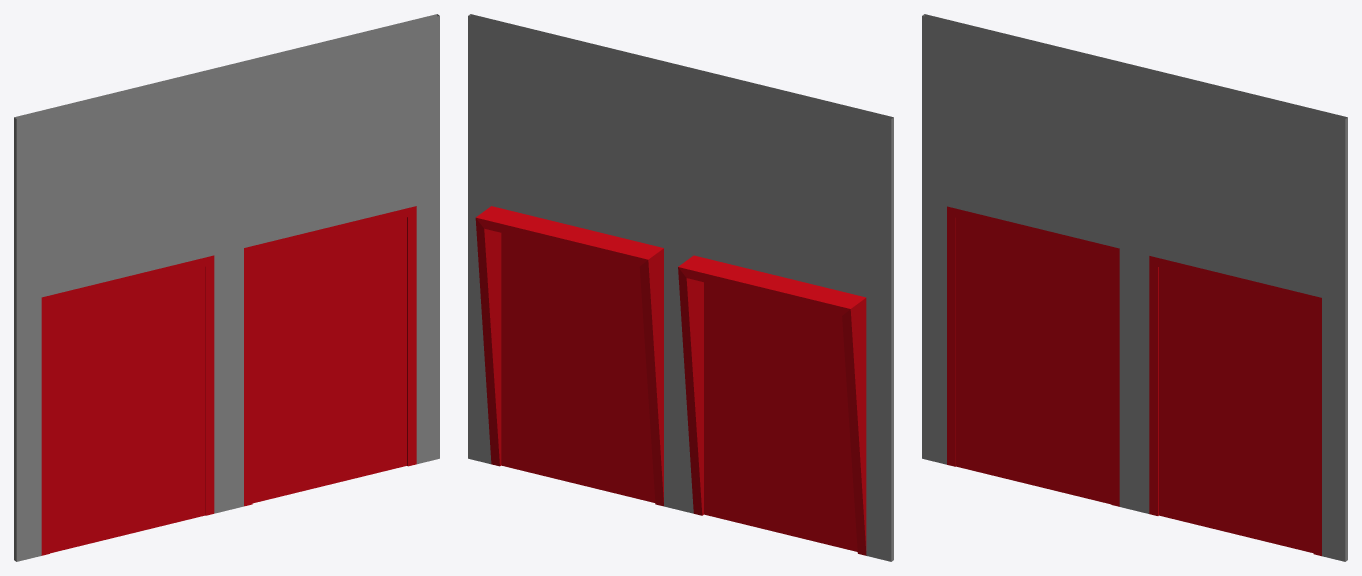
Rendered from WH_Wall_02_Gates_SM.FBX.
The picture shows the model from 3 angles, left to right: view 1: azimuth 30°, elevation 25°; view 2: azimuth 150°, elevation 25°; view 3: azimuth 330°, elevation 25°; orthographic projection.
Visible parts, largest first — view 1: WH_Wall_02_Gates_SM, Gate_SM_01, Gate_SM_02; view 2: WH_Wall_02_Gates_SM, Gate_SM_02, Gate_SM_01; view 3: WH_Wall_02_Gates_SM, Gate_SM_01, Gate_SM_02.
Boxes of the visible parts, left/top/right/bottom form: WH_Wall_02_Gates_SM: left=14, top=14, right=439, bottom=561; Gate_SM_01: left=50, top=266, right=205, bottom=553; Gate_SM_02: left=252, top=217, right=406, bottom=503; WH_Wall_02_Gates_SM: left=468, top=14, right=893, bottom=561; Gate_SM_02: left=501, top=233, right=655, bottom=502; Gate_SM_01: left=704, top=282, right=857, bottom=551; WH_Wall_02_Gates_SM: left=922, top=14, right=1347, bottom=561; Gate_SM_01: left=956, top=217, right=1111, bottom=504; Gate_SM_02: left=1159, top=267, right=1313, bottom=553.
Size of the model in its own units: 500 by 37.33 by 500.
